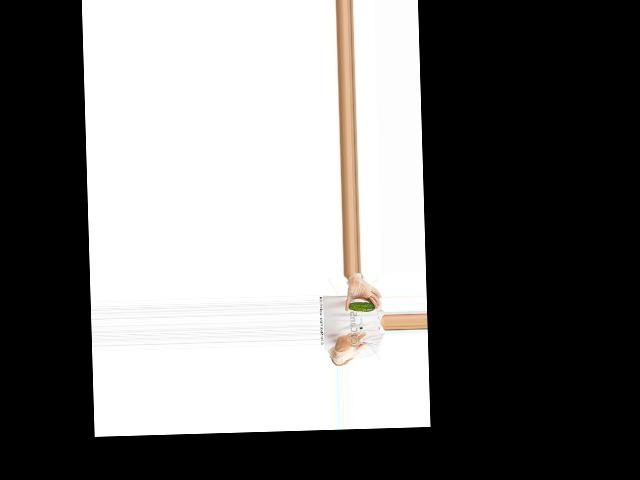cucumber: (348, 301, 375, 311)
